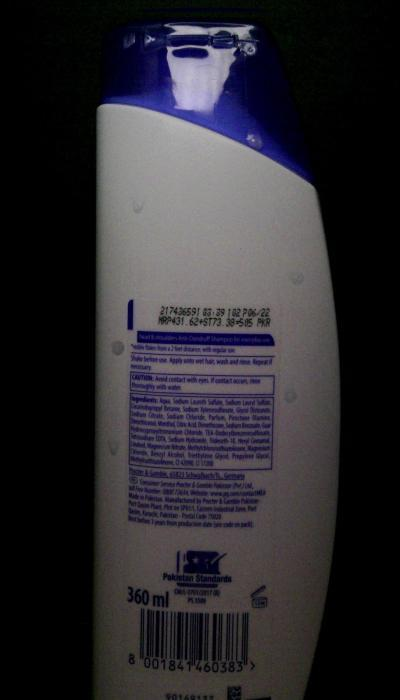pob_marg: (237, 125, 271, 160), (280, 258, 312, 295), (280, 376, 310, 414), (126, 188, 154, 226), (105, 328, 135, 360), (103, 432, 128, 470), (236, 38, 266, 64)
